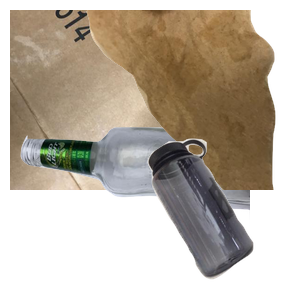cardboard: (10, 10, 250, 190)
glass: (18, 124, 258, 300)
plastic: (145, 136, 300, 300)
trash: (84, 10, 300, 190)
